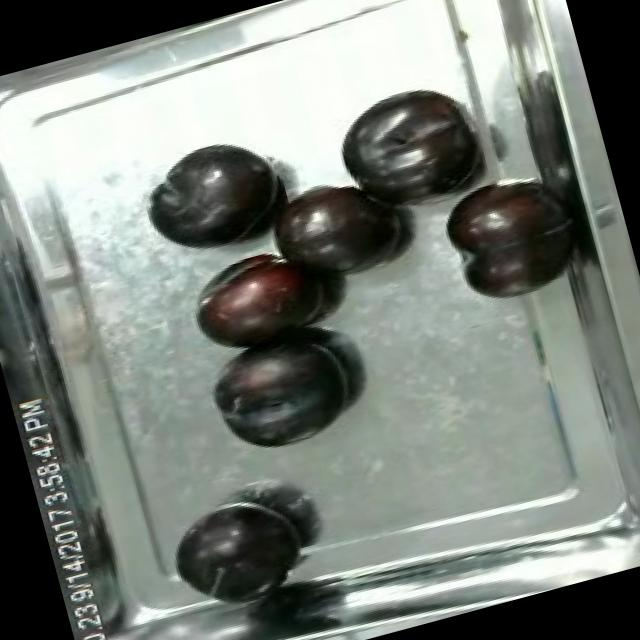Fruit: (195, 316, 372, 469), (320, 72, 494, 225), (430, 162, 588, 317), (130, 124, 298, 268), (154, 480, 320, 618), (177, 236, 341, 368), (255, 160, 412, 297)
